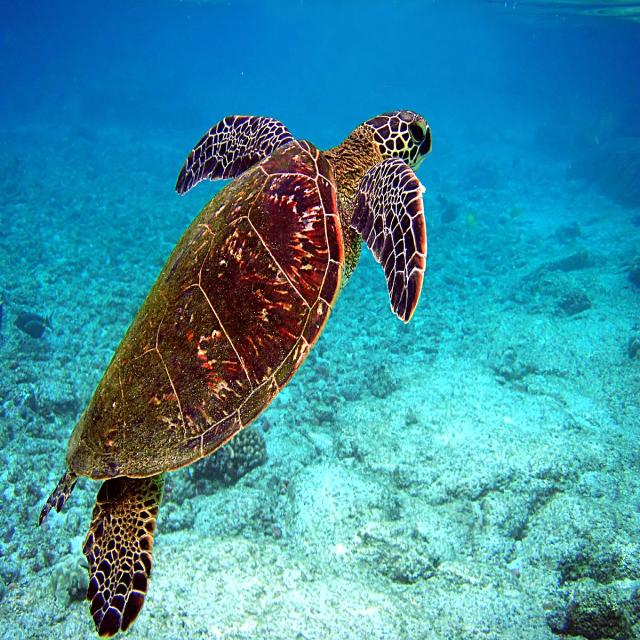Sea turtle: (25, 103, 448, 625)
